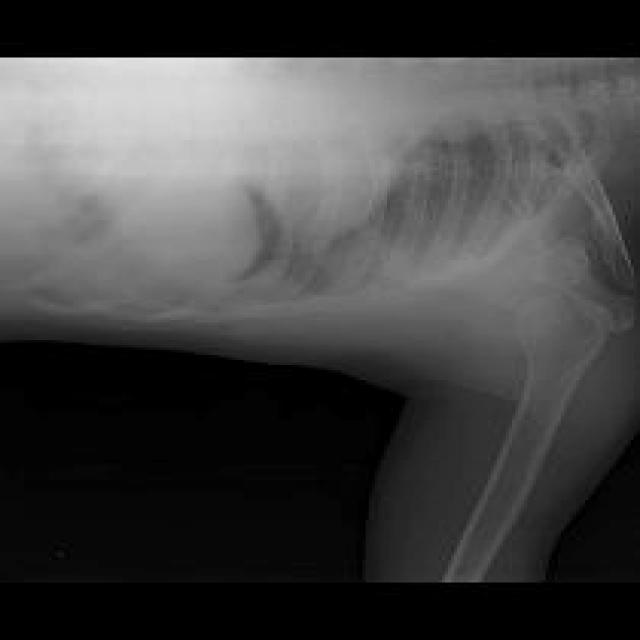normal: (4, 60, 629, 319), (442, 155, 635, 579)
